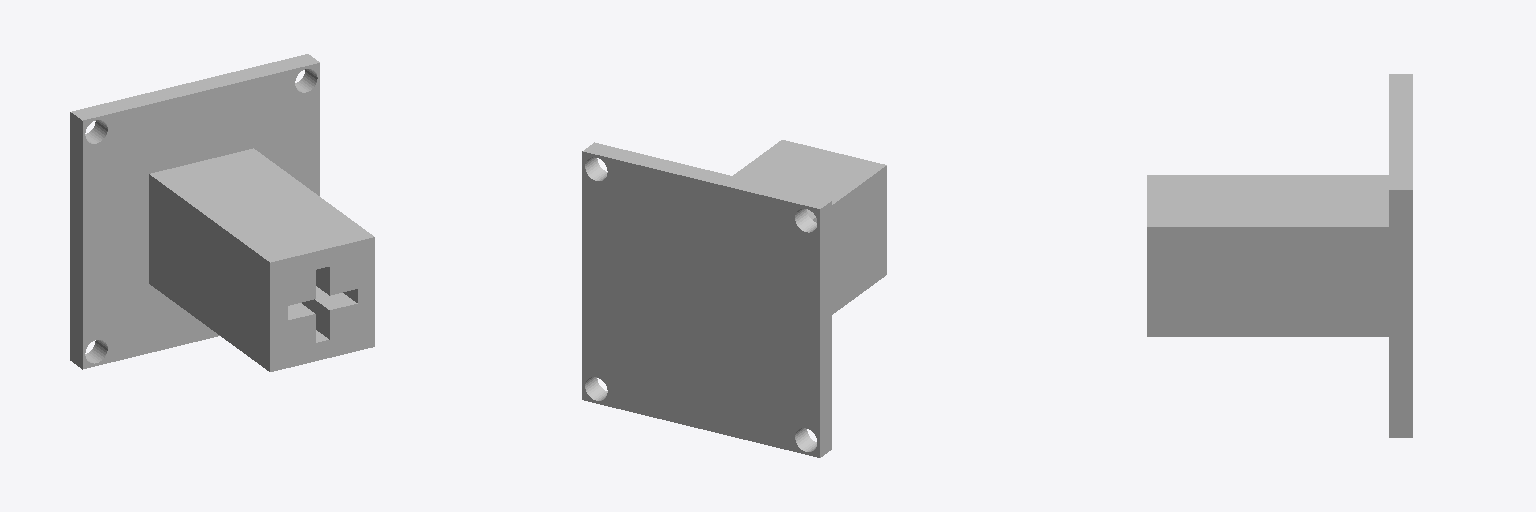
3 renders of one model, left to right at view 1: azimuth 30°, elevation 25°; view 2: azimuth 150°, elevation 25°; view 3: azimuth 270°, elevation 25°, orthographic.
Visible parts, largest first — view 1: 立方体.047_立方体.070; view 2: 立方体.047_立方体.070; view 3: 立方体.047_立方体.070.
Part boxes in pixels (x1,y1,x2,y2): 立方体.047_立方体.070: (70,54,374,371); 立方体.047_立方体.070: (582,140,886,457); 立方体.047_立方体.070: (1147,74,1412,437).
Bounding box in the file's own units: 0.068 × 0.068 × 0.066.